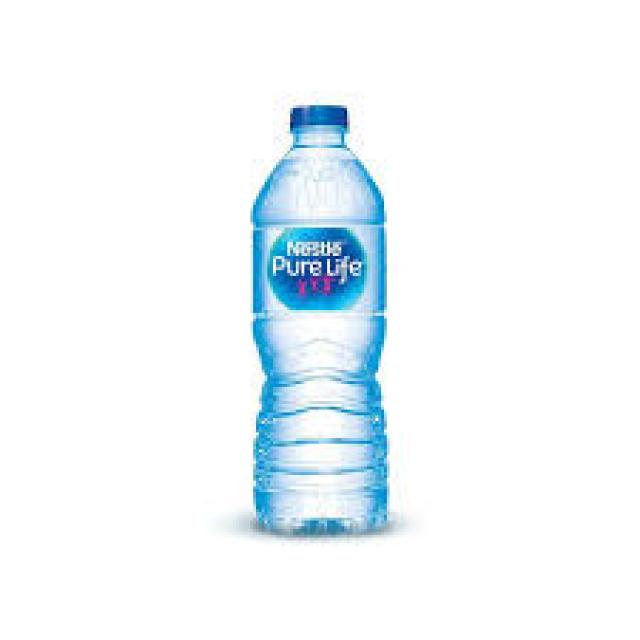bottle: (244, 90, 399, 544)
cap: (279, 96, 355, 140)
label: (240, 212, 396, 324)
